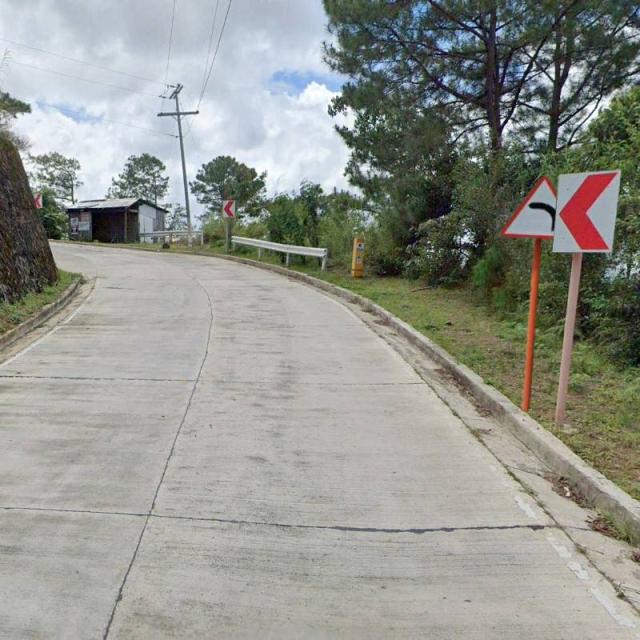warn_left_curve: (502, 176, 574, 239)
